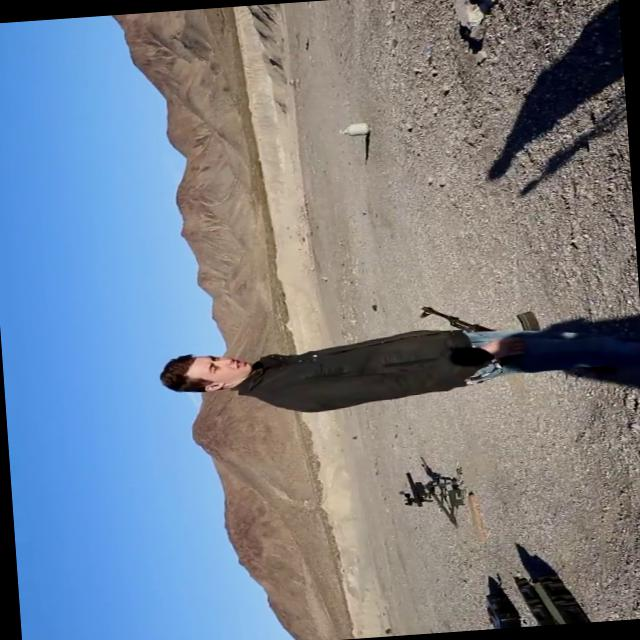long weapon: (389, 456, 467, 516)
